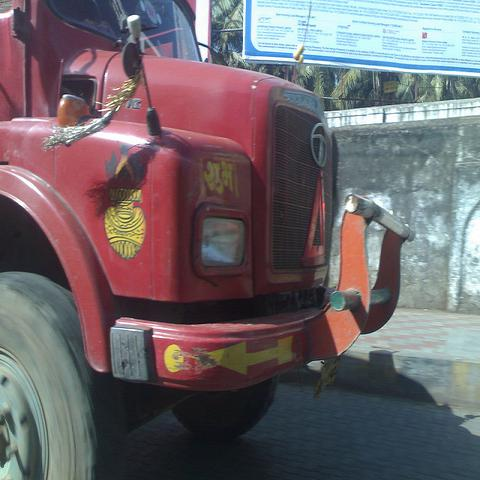truck: (0, 0, 419, 480)
